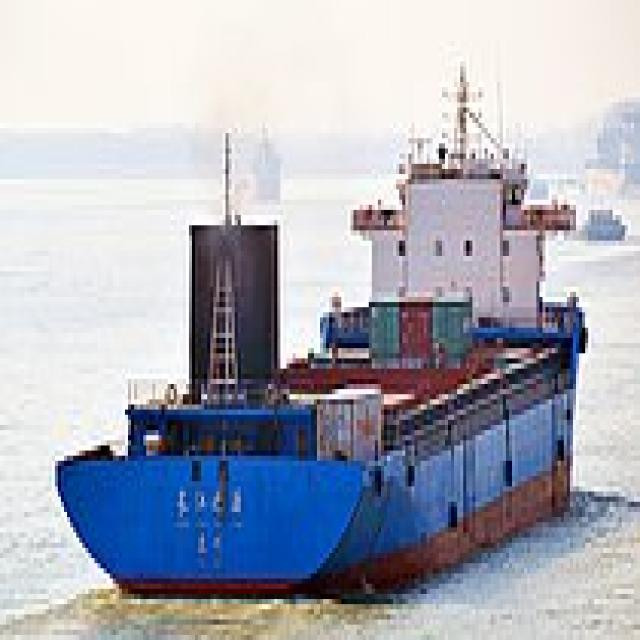Cargo: (52, 51, 588, 599)
